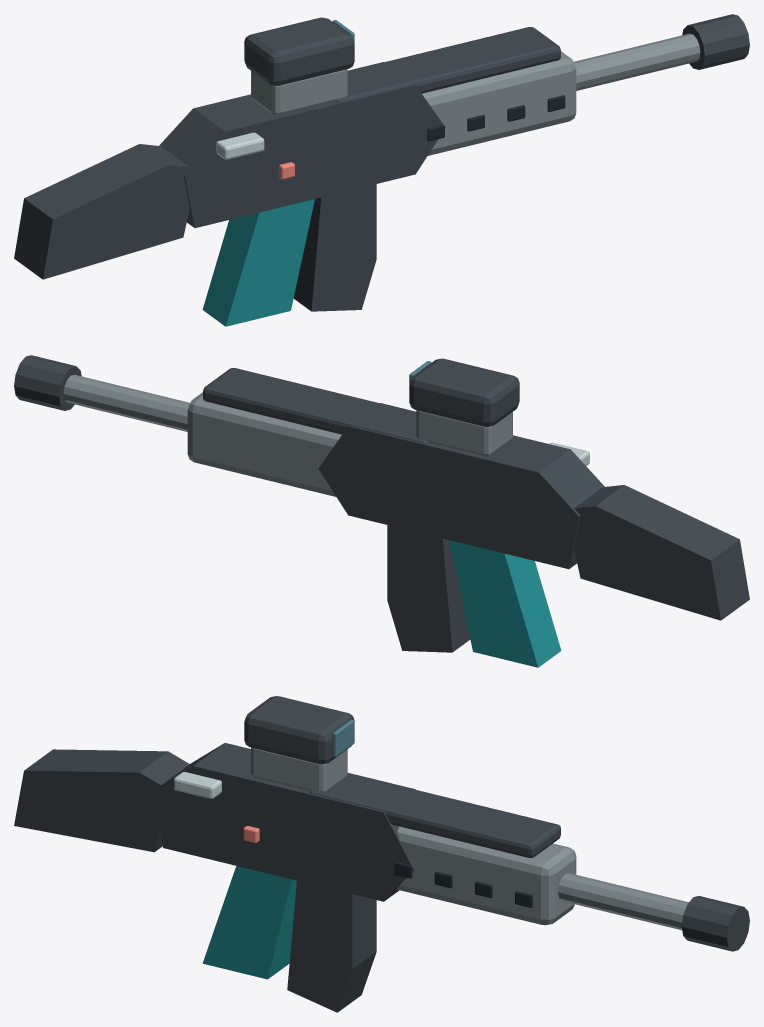
File: Rifle.fbx
3 renders of one model, top to bottom at view 1: azimuth 30°, elevation 25°; view 2: azimuth 150°, elevation 25°; view 3: azimuth 330°, elevation 25°, orthographic.
Visible parts, largest first — view 1: Rifle; view 2: Rifle; view 3: Rifle.
Boxes of the visible parts, x1,y1,x2,y2 form: Rifle: (14, 14, 749, 326); Rifle: (14, 355, 749, 667); Rifle: (14, 696, 749, 1012).
Size of the model in its own units: 142 by 53.05 by 14.6.
